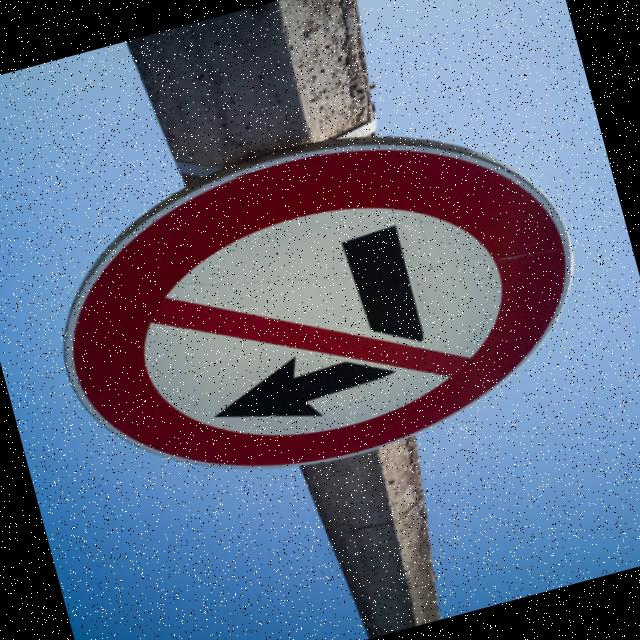do_not_turn_right: (0, 64, 623, 544)
